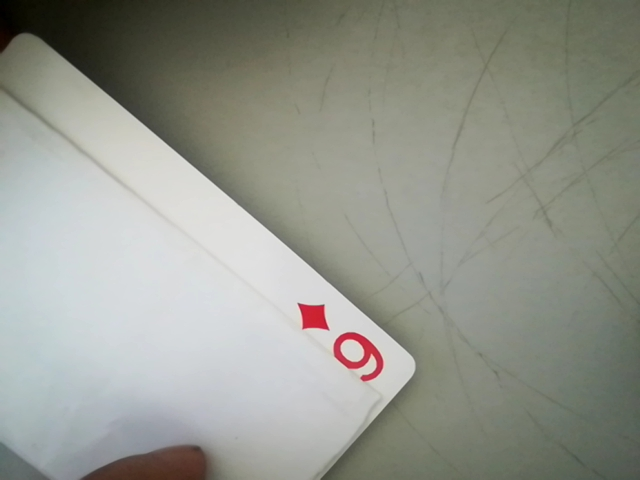fk 6: (283, 298, 406, 395)
